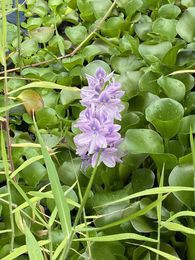water_hyacinth: (44, 0, 195, 260)
